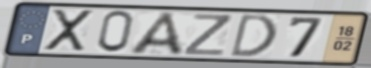0: (95, 9, 136, 55)
7: (285, 15, 329, 60)
A: (126, 10, 187, 57)
D: (227, 12, 279, 60)
X: (42, 8, 95, 53)
Z: (182, 12, 234, 58)
